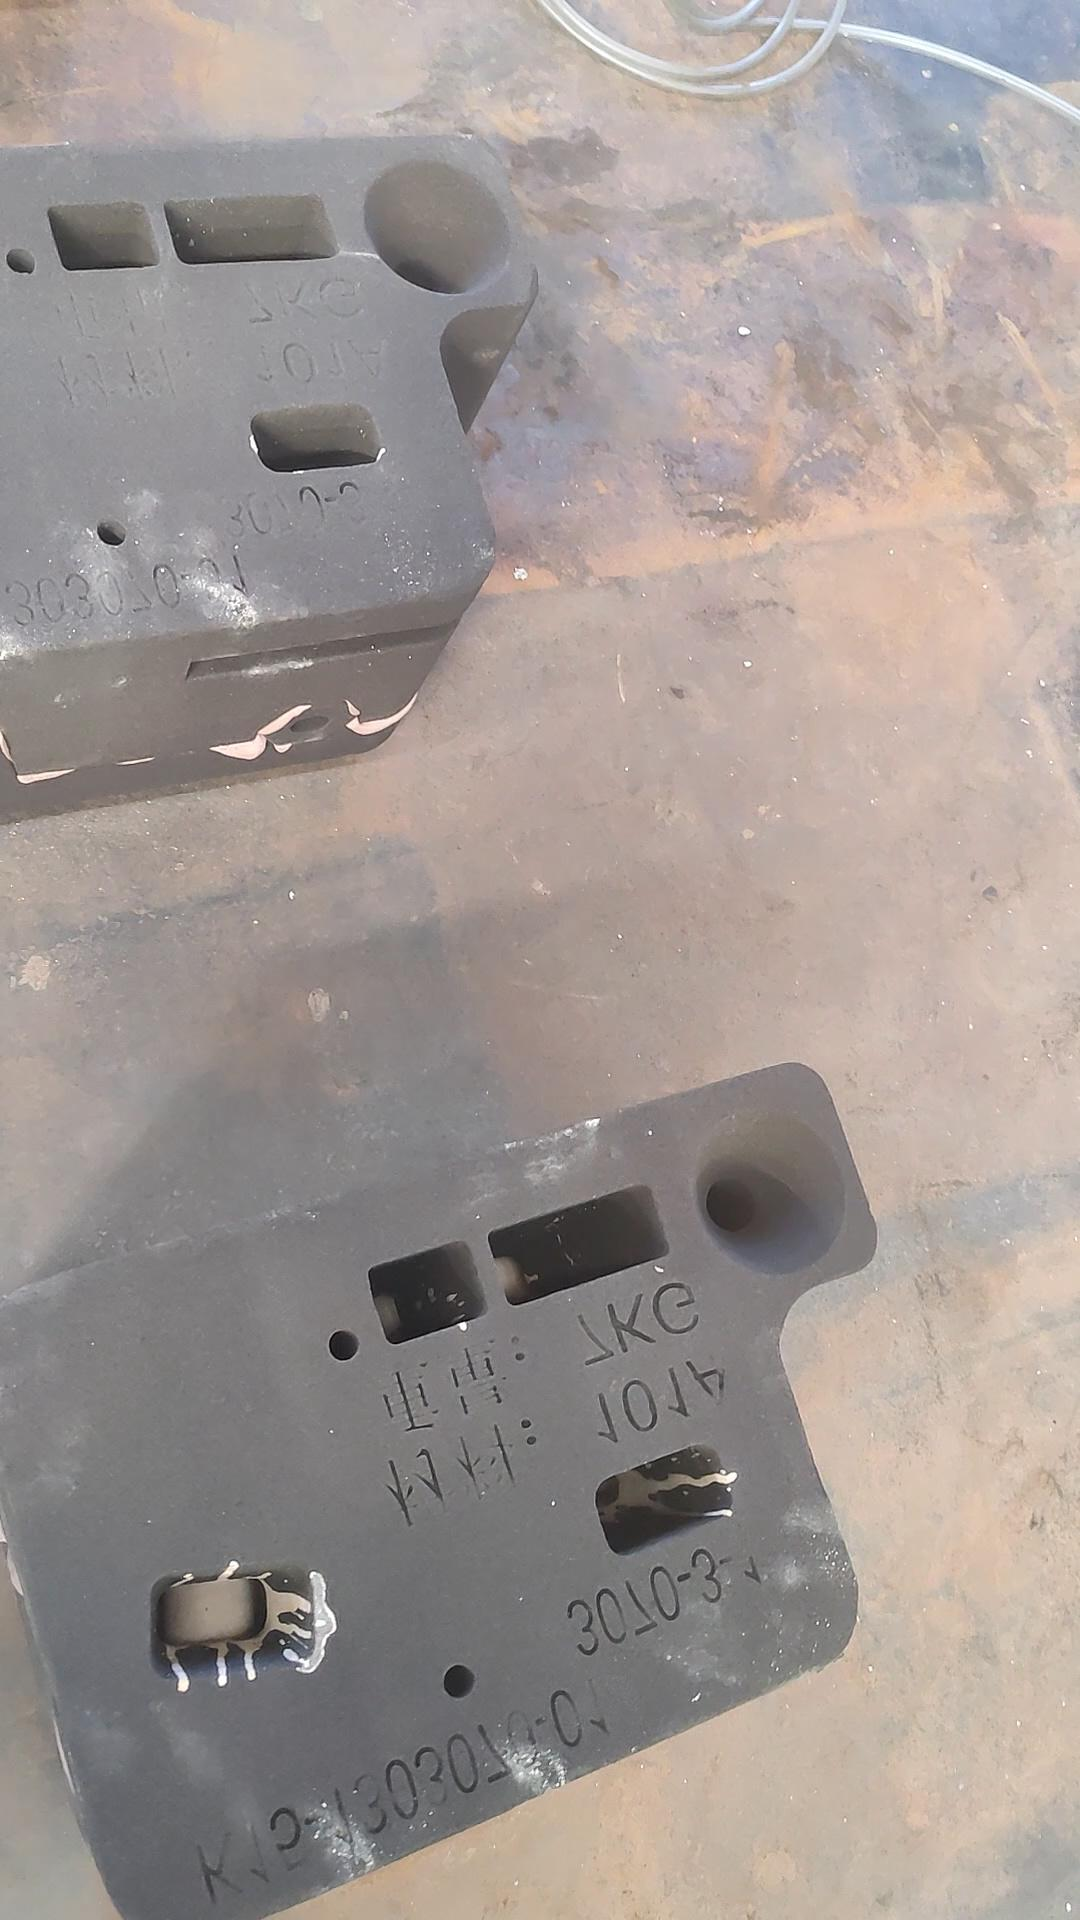pouring hole: (688, 1102, 848, 1276), (363, 158, 514, 294)
